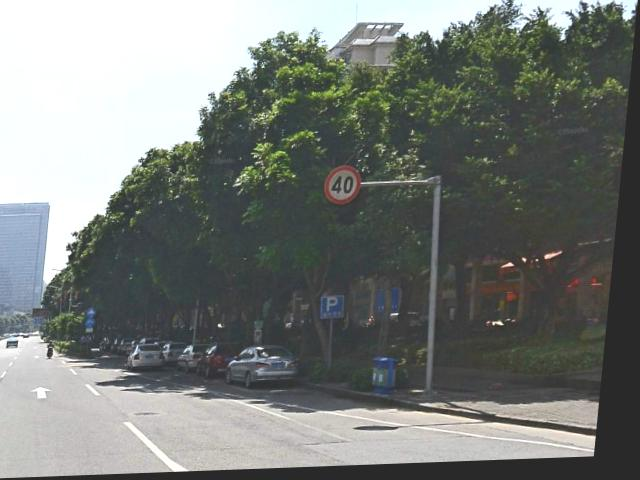limit40: (328, 168, 366, 207)
